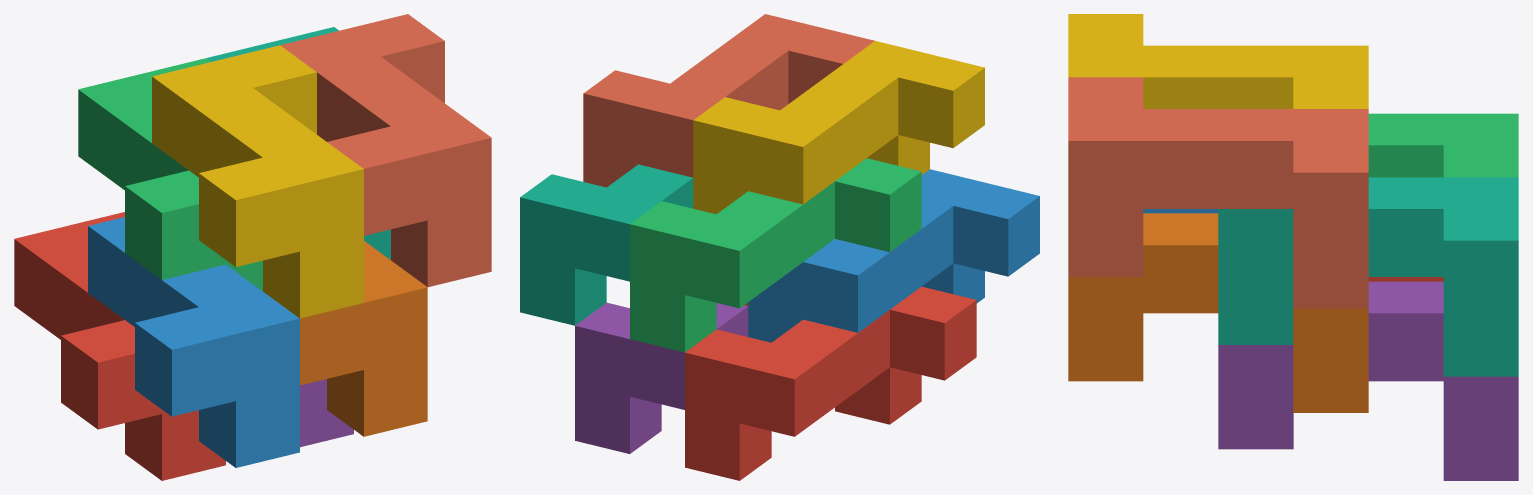
The model's file is tiling.obj.
The picture shows the model from 3 angles, left to right: view 1: azimuth 30°, elevation 25°; view 2: azimuth 150°, elevation 25°; view 3: azimuth 270°, elevation 25°; orthographic projection. The views are drawn at different scales.
Visible parts, largest first — view 1: copy_1_domain_4, copy_1_domain_8, copy_1_domain_2, copy_1_domain_1, copy_1_domain_6, copy_1_domain_3, copy_1_domain_5, copy_1_domain_7; view 2: copy_1_domain_1, copy_1_domain_4, copy_1_domain_3, copy_1_domain_2, copy_1_domain_8, copy_1_domain_7, copy_1_domain_5; view 3: copy_1_domain_8, copy_1_domain_7, copy_1_domain_5, copy_1_domain_6, copy_1_domain_4, copy_1_domain_3.
Part boxes in pixels (<box>): copy_1_domain_4: <box>152,45,363,318</box>; copy_1_domain_8: <box>280,14,491,287</box>; copy_1_domain_2: <box>88,217,299,467</box>; copy_1_domain_1: <box>14,212,225,480</box>; copy_1_domain_6: <box>300,241,427,436</box>; copy_1_domain_3: <box>78,58,262,291</box>; copy_1_domain_5: <box>300,379,353,447</box>; copy_1_domain_7: <box>206,27,390,259</box>; copy_1_domain_1: <box>685,286,976,480</box>; copy_1_domain_4: <box>693,41,984,214</box>; copy_1_domain_3: <box>630,158,921,352</box>; copy_1_domain_2: <box>748,169,1039,342</box>; copy_1_domain_8: <box>583,14,874,187</box>; copy_1_domain_7: <box>520,164,693,325</box>; copy_1_domain_5: <box>575,302,748,453</box>; copy_1_domain_8: <box>1068,77,1368,308</box>; copy_1_domain_7: <box>1218,177,1518,376</box>; copy_1_domain_5: <box>1218,281,1518,480</box>; copy_1_domain_6: <box>1068,213,1368,412</box>; copy_1_domain_4: <box>1068,14,1368,108</box>; copy_1_domain_3: <box>1368,113,1518,177</box>.
Bounding box in the file's own units: 6 × 5 × 6.
